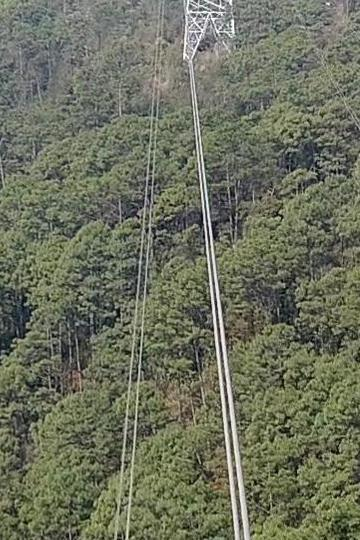power_tower: (183, 1, 235, 59)
